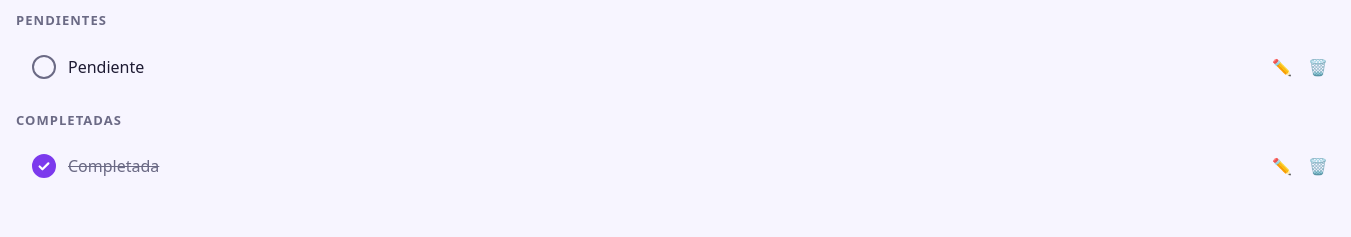
TaskList state patterns (I/O matrix) › keeps rendering the sections after deleting the last pending task from a mixed list
Click the button named "Eliminar Pendiente" at (1318,66), box [1302,50,1334,82]
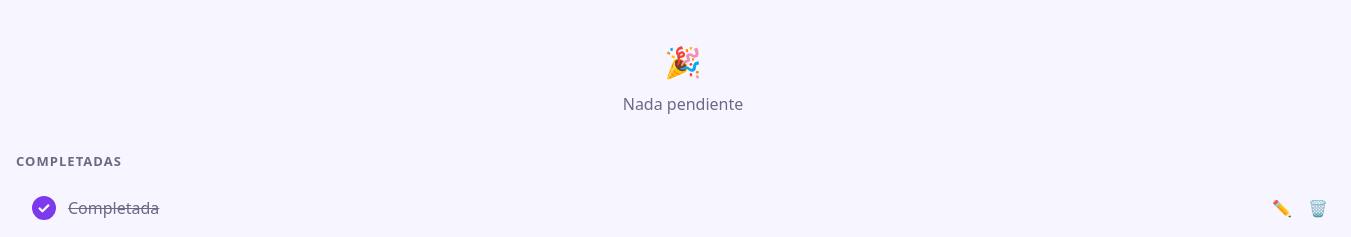
expect the checkbox named "Completada" is shown: met, box [32,196,56,220]
expect the text "Nada pendiente" is shown: met, box [623,93,743,115]
